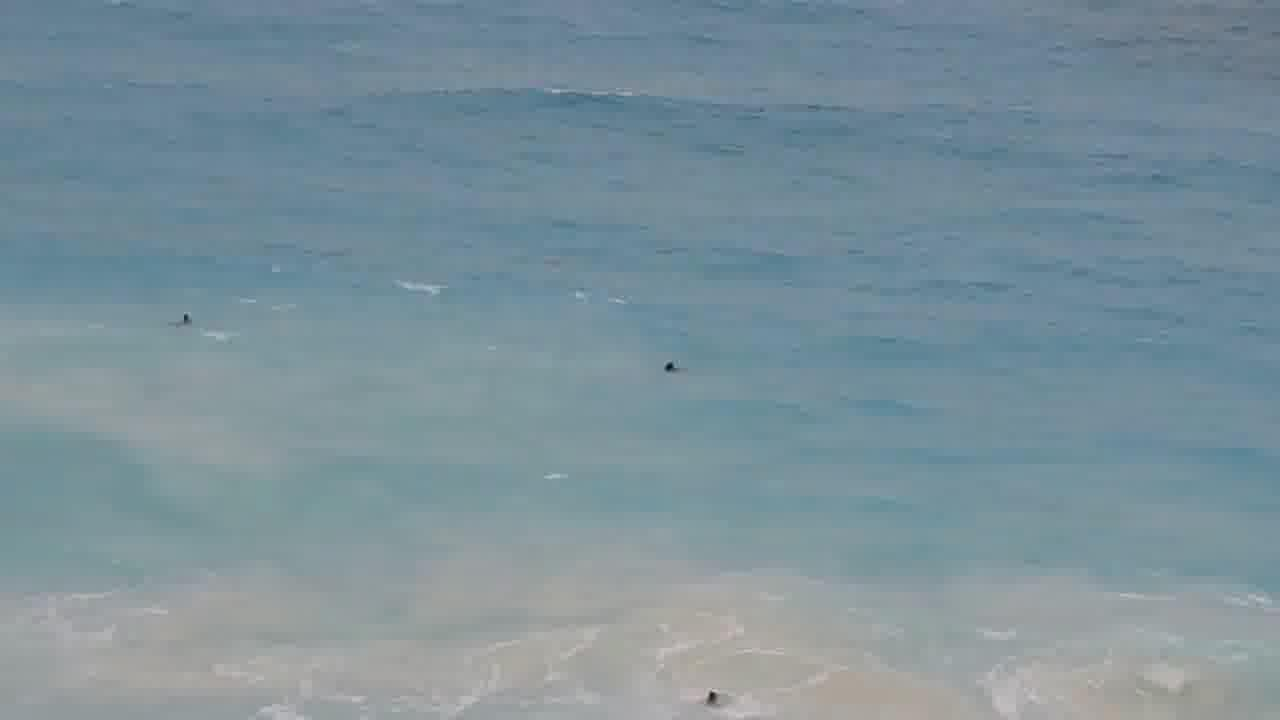swimmer: (158, 295, 207, 338), (638, 342, 685, 375), (691, 674, 732, 708)
